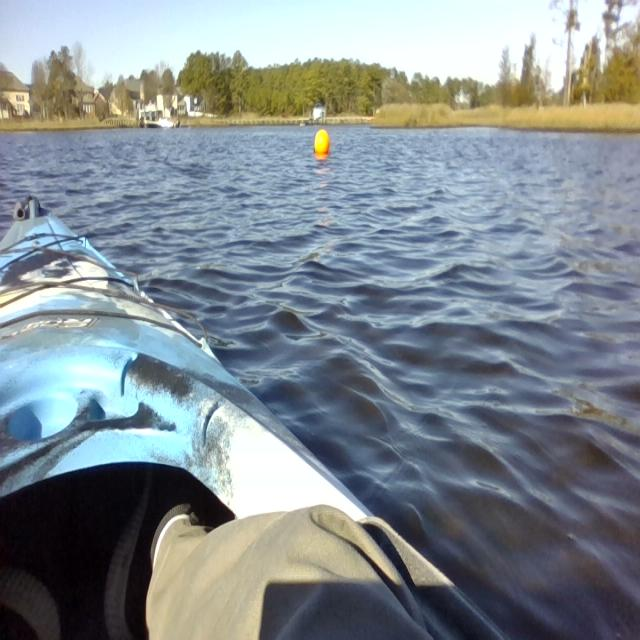Buoy: (312, 126, 332, 164)
